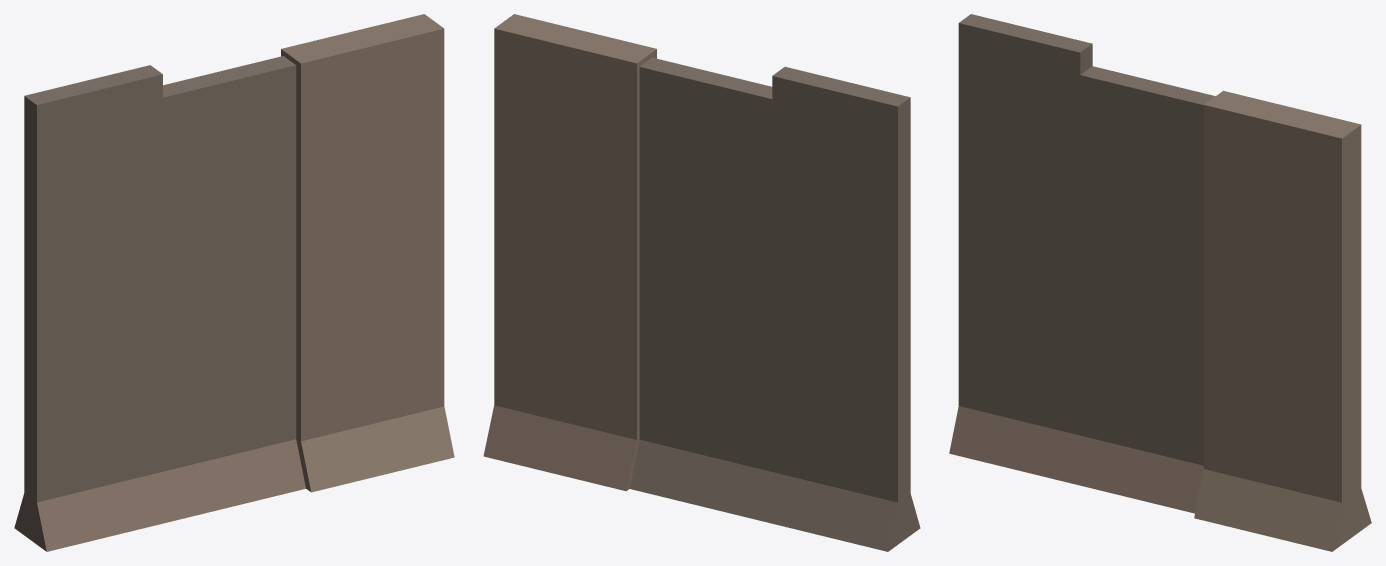
The model's file is wall2.fbx.
The picture shows the model from 3 angles, left to right: view 1: azimuth 30°, elevation 25°; view 2: azimuth 150°, elevation 25°; view 3: azimuth 330°, elevation 25°; orthographic projection. The views are drawn at different scales.
Parts seen in each view (by area): view 1: wall2; view 2: wall2; view 3: wall2.
Boxes of the visible parts, <box> form: wall2: <box>14,14,454,551</box>; wall2: <box>483,14,920,551</box>; wall2: <box>949,14,1371,551</box>.
Bounding box in the file's own units: 300 × 313 × 52.96.
